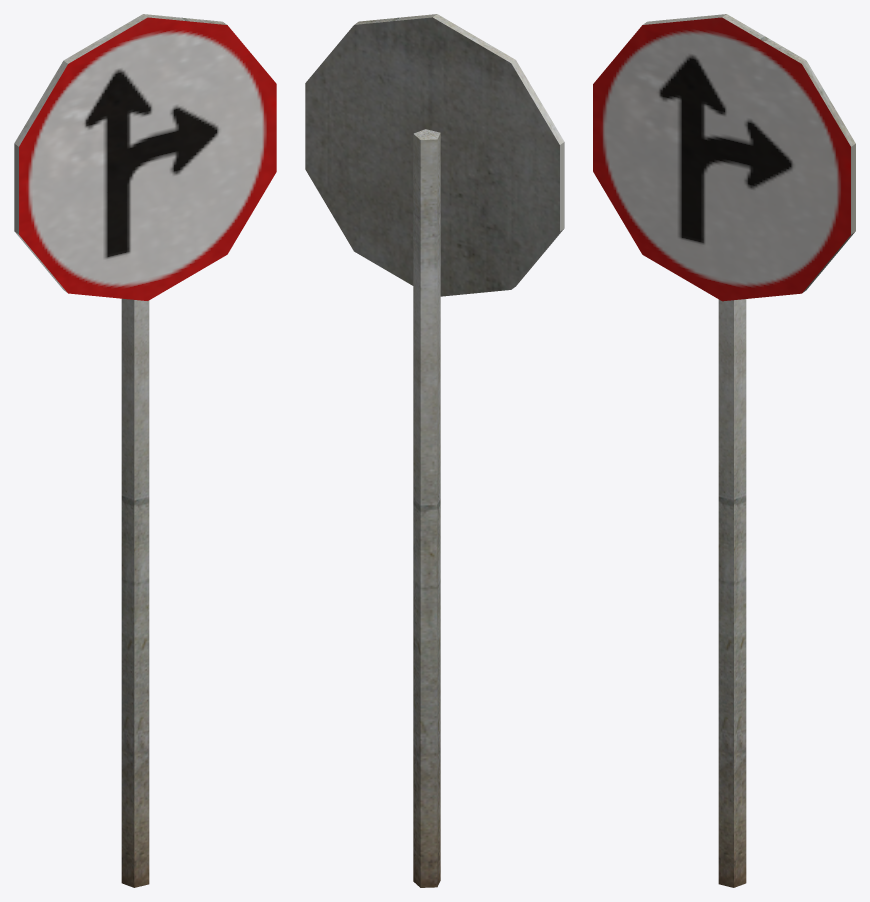
Rendered from round_flat_right.fbx.
3 views of the same model, side by side, from view 1: azimuth 30°, elevation 25°; view 2: azimuth 150°, elevation 25°; view 3: azimuth 330°, elevation 25° (orthographic).
Visible parts, largest first — view 1: Circle.001; view 2: Circle.001; view 3: Circle.001.
Part boxes in pixels (left/top/right/bottom): Circle.001: left=14, top=14, right=276, bottom=887; Circle.001: left=305, top=14, right=564, bottom=887; Circle.001: left=593, top=14, right=855, bottom=887.
Size of the model in its own units: 153 by 493 by 18.33.
